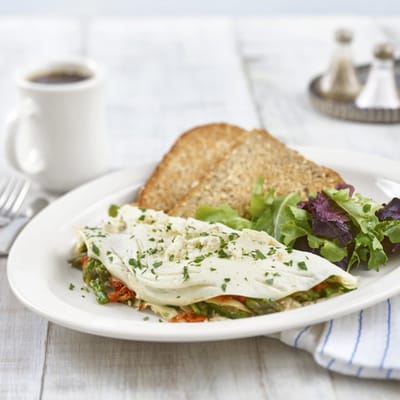burger: (0, 170, 32, 230)
pizza: (3, 53, 114, 195)
soup: (76, 121, 394, 324)
